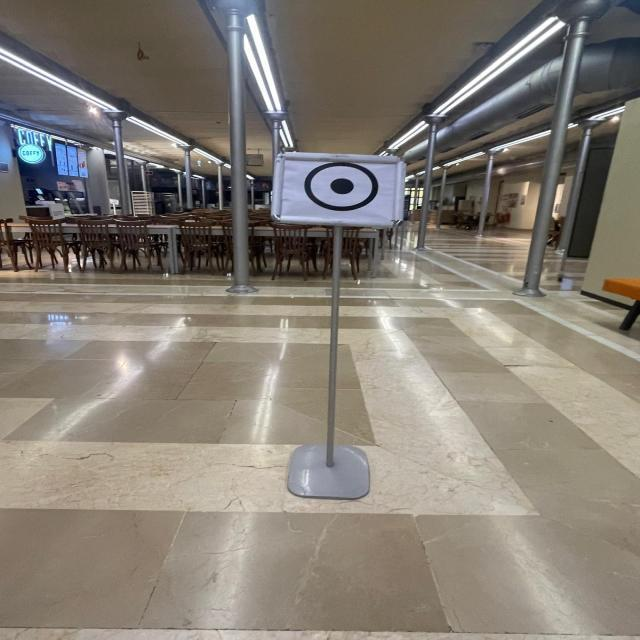Target: (264, 134, 414, 243)
inner: (327, 174, 358, 196)
